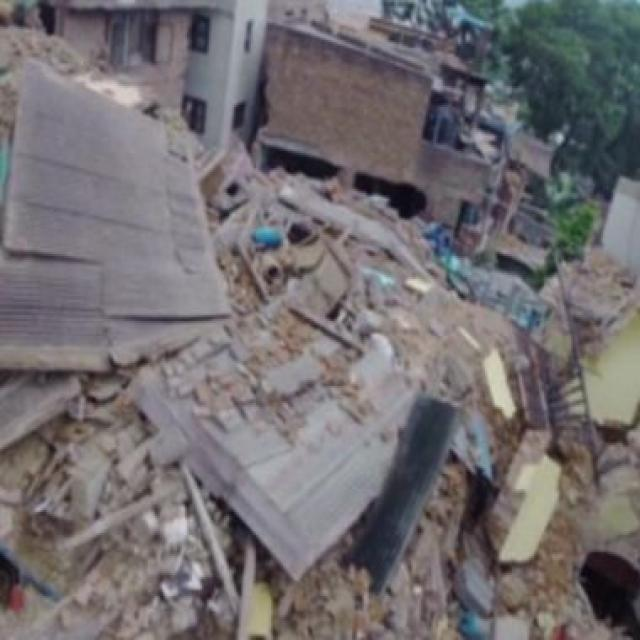collapsed_building: (0, 162, 541, 638)
